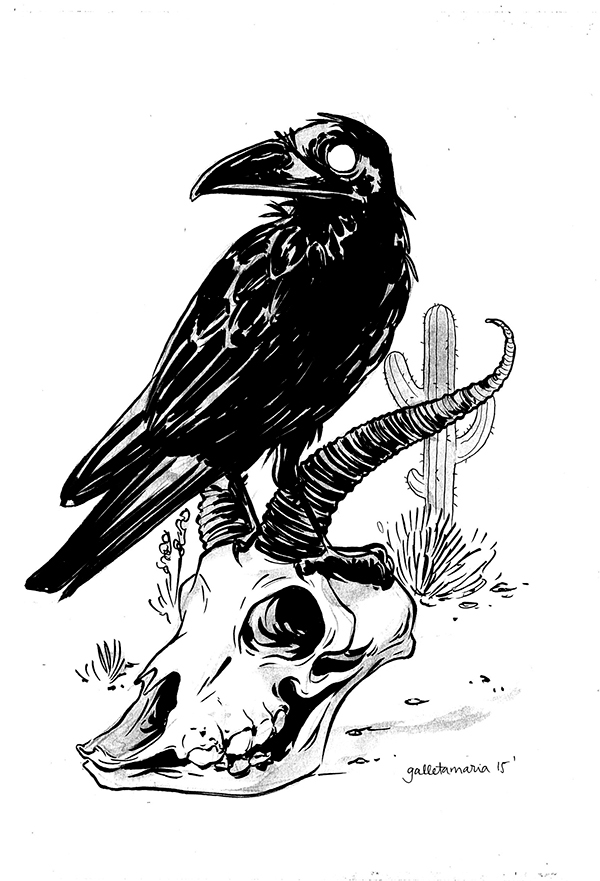bird: (10, 109, 436, 611)
